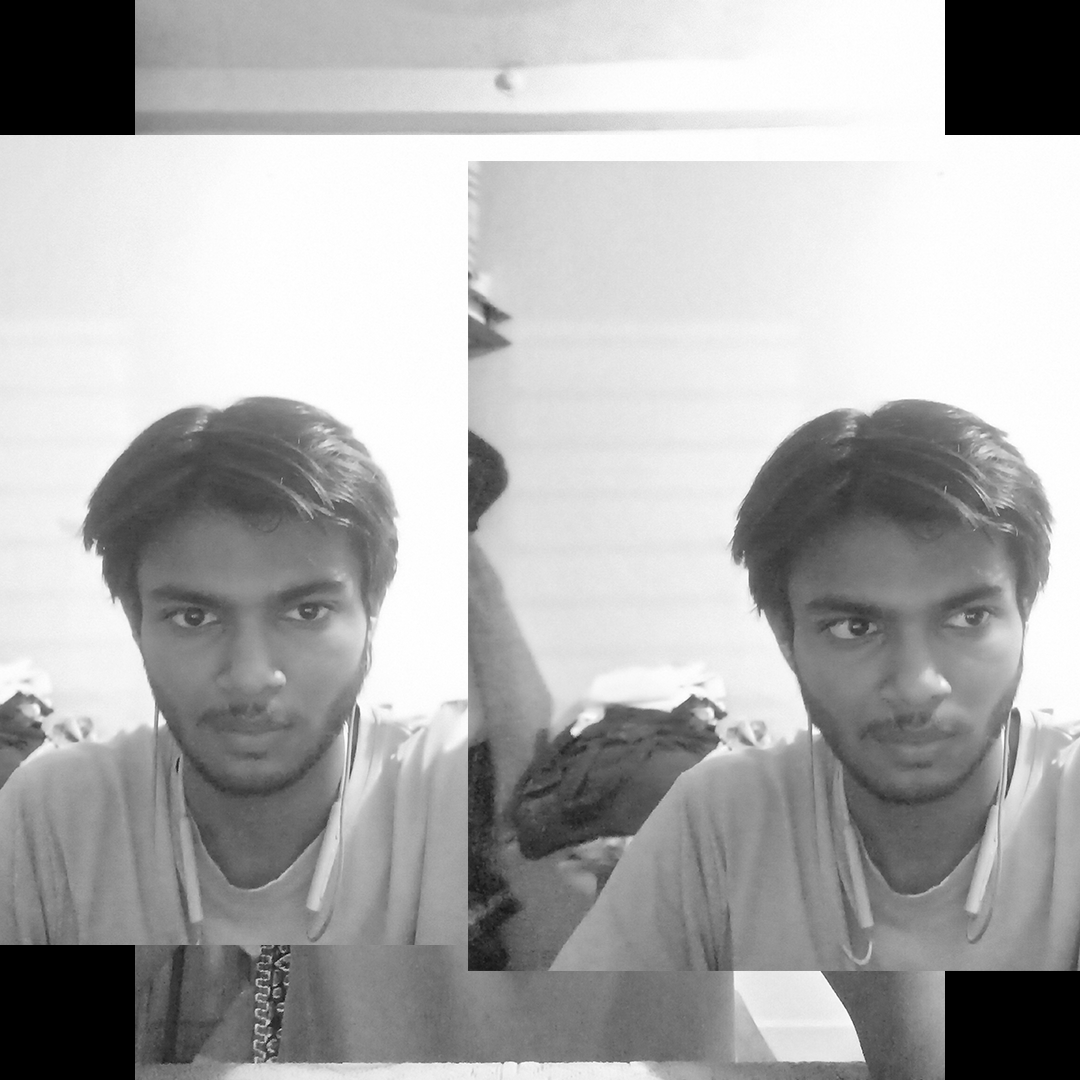Focused: (582, 348, 1080, 955), (48, 354, 453, 879)
